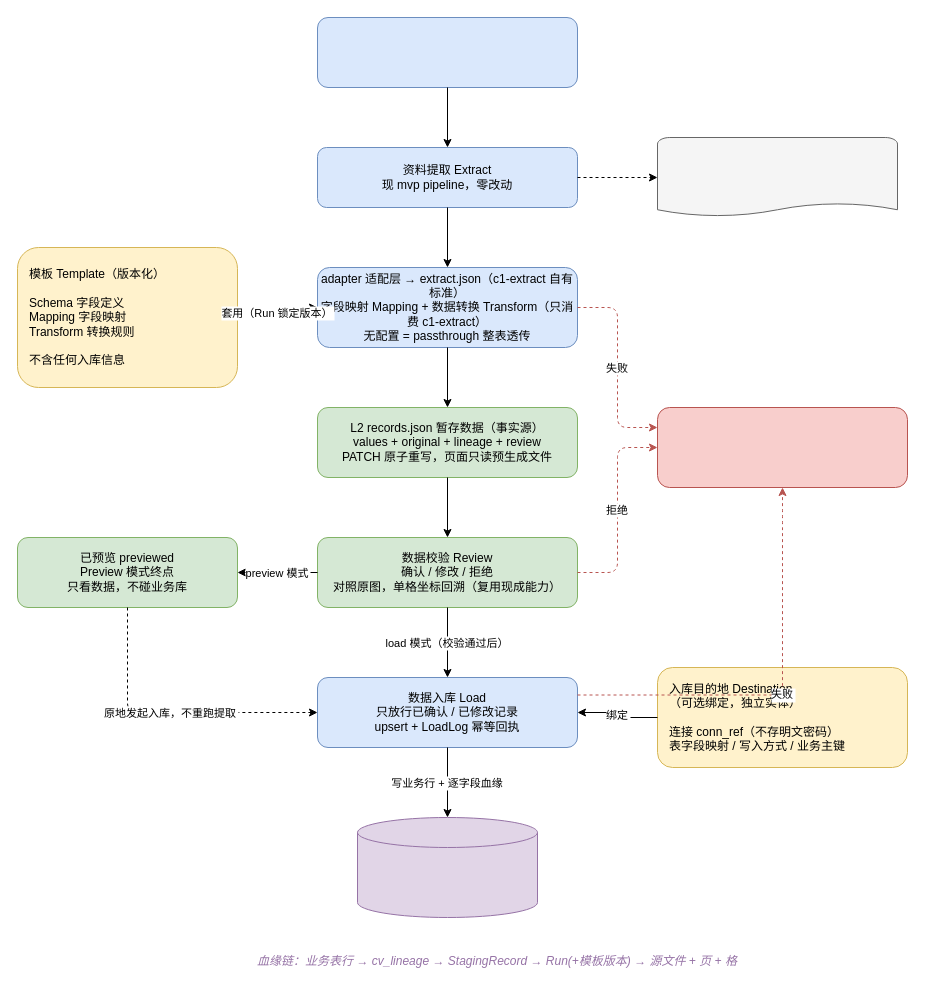
Some shapes in this 925 by 995 pixel diagram are drawn without their labels. The centre of each missing label's shape, as x and y in pixels:
"L0 raw/*.json 引擎原样返回 永不服务前端（403）" goes at [777,177].
"异常隔离区 Quarantine 转换 / 校验 / 入库失败 不丢弃不阻塞，修复后从失败阶段重放" goes at [782,447].
"源文件库 Sources 临时上传 / 从库选择 / 上次重跑 sha256 去重" goes at [447,52].
"目标业务库 业务表（+staging_record_id 列） cv_lineage 血缘表" goes at [447,867].
